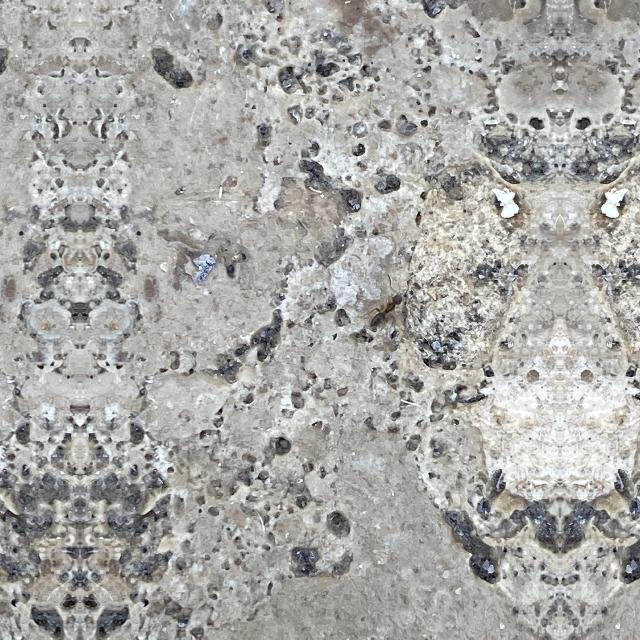Tapinoma: (366, 277, 412, 333)
